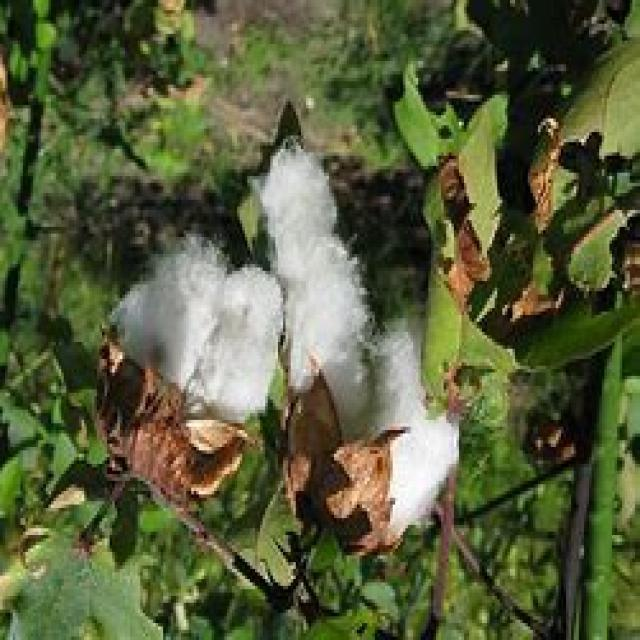Matured Cotton Boll: (262, 143, 466, 560), (109, 231, 283, 464)
